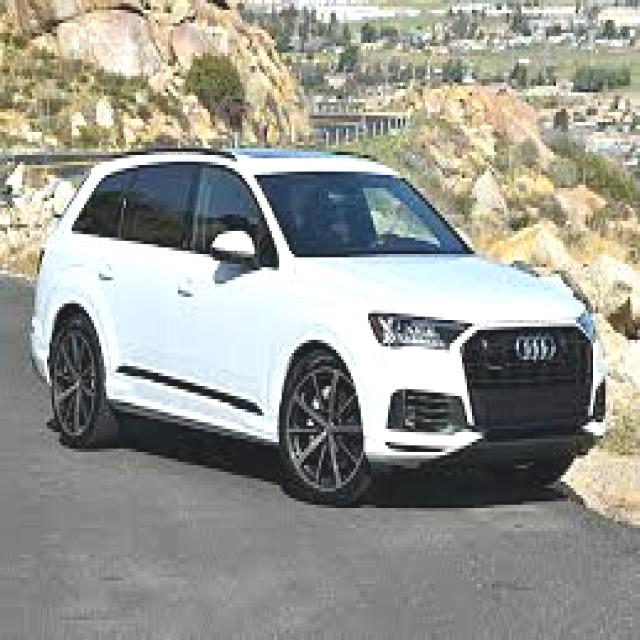SUV: (31, 145, 606, 510)
